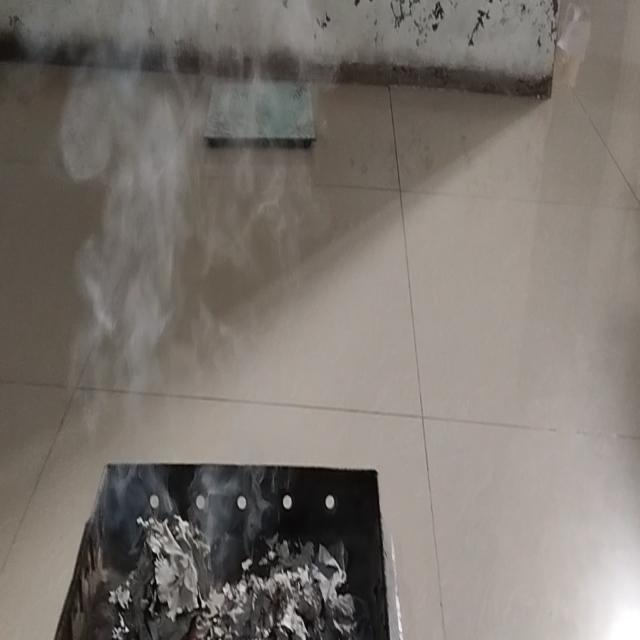smoke: (63, 4, 249, 530)
